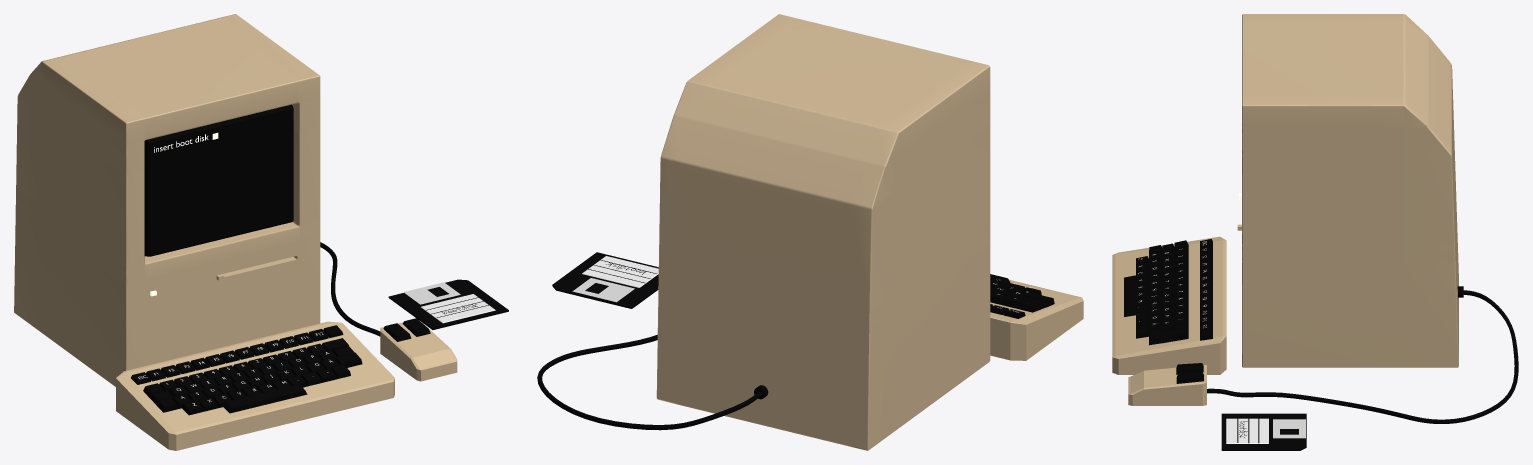
The model's file is 80s_computer.glb.
3 renders of one model, left to right at view 1: azimuth 30°, elevation 25°; view 2: azimuth 150°, elevation 25°; view 3: azimuth 270°, elevation 25°, orthographic. The views are drawn at different scales.
Visible parts, largest first — view 1: Cube_0, Cube.003_5, Cube.005_7, Cube.014_17, Cube.013_13, Cube.008_10, Cube.006_8, Cube.001_3, Cube.009_11, Cube.007_9, Plane.001_78, Cube.010_12 (+2 smaller); view 2: Cube_0, Cube.005_7, Cylinder_83, Cube.001_3, Plane.001_78, Cube.017_77, Cube.006_8; view 3: Cube_0, Cube.005_7, Cube.014_17, Cylinder_83, Cube.001_3, Cube.006_8, Cube.013_13, Cube.008_10, Plane.001_78, Cube.007_9, Cube.009_11, Cube.017_77 (+1 smaller).
Boxes of the visible parts, bbox=[...] form: Cube_0: bbox=[14, 14, 320, 386]; Cube.003_5: bbox=[144, 104, 293, 256]; Cube.005_7: bbox=[116, 321, 394, 450]; Cube.014_17: bbox=[380, 320, 457, 381]; Cube.013_13: bbox=[131, 325, 343, 384]; Cube.008_10: bbox=[156, 352, 362, 412]; Cube.006_8: bbox=[143, 338, 348, 398]; Cube.001_3: bbox=[388, 279, 508, 329]; Cube.009_11: bbox=[182, 364, 350, 415]; Cube.007_9: bbox=[169, 350, 336, 396]; Plane.001_78: bbox=[421, 294, 495, 323]; Cube.010_12: bbox=[223, 384, 307, 413]; Cube_0: bbox=[656, 14, 990, 450]; Cube.005_7: bbox=[990, 279, 1083, 360]; Cylinder_83: bbox=[537, 334, 760, 430]; Cube.001_3: bbox=[552, 252, 658, 308]; Plane.001_78: bbox=[582, 256, 658, 287]; Cube.017_77: bbox=[572, 278, 634, 302]; Cube.006_8: bbox=[990, 292, 1040, 312]; Cube_0: bbox=[1242, 14, 1458, 367]; Cube.005_7: bbox=[1112, 236, 1226, 374]; Cube.014_17: bbox=[1128, 365, 1206, 405]; Cylinder_83: bbox=[1207, 290, 1518, 423]; Cube.001_3: bbox=[1221, 413, 1306, 450]; Cube.006_8: bbox=[1174, 240, 1188, 340]; Cube.013_13: bbox=[1200, 239, 1212, 340]; Cube.008_10: bbox=[1149, 245, 1162, 345]; Plane.001_78: bbox=[1226, 418, 1268, 443]; Cube.007_9: bbox=[1161, 251, 1174, 332]; Cube.009_11: bbox=[1136, 256, 1148, 338]; Cube.017_77: bbox=[1273, 419, 1305, 438].
Bounding box in the file's own units: 4.04 × 2.74 × 3.75.
